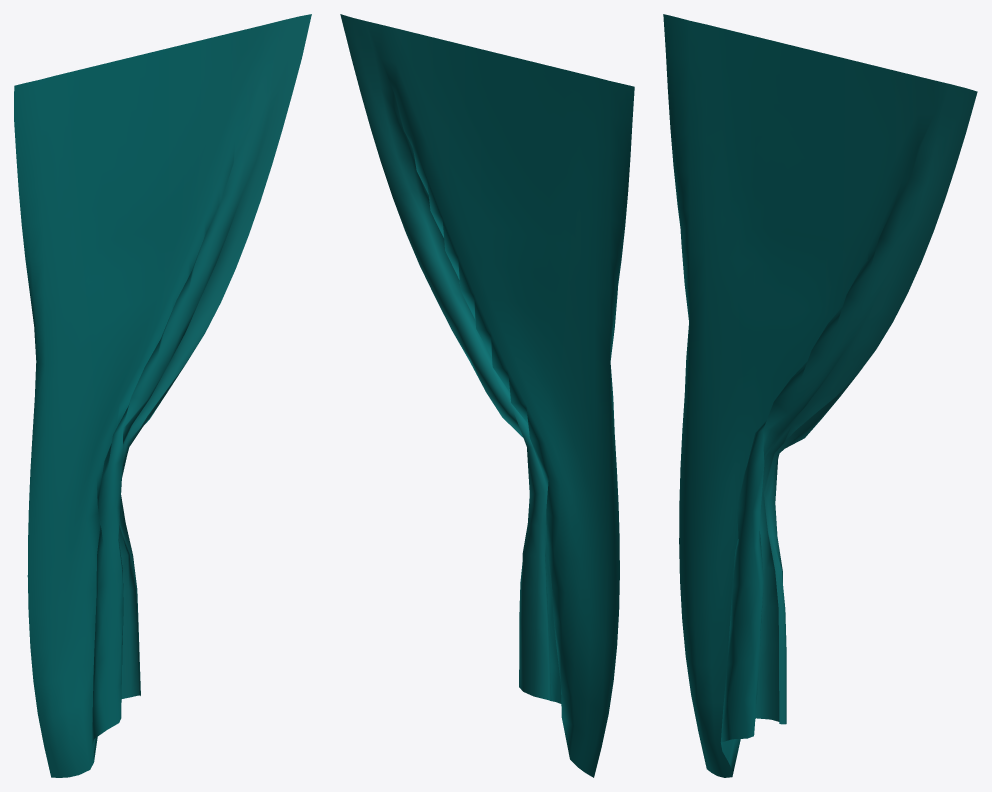
The model's file is fc447461-efce-41c1-be32-888a168b1c1a.glb.
3 renders of one model, left to right at view 1: azimuth 30°, elevation 25°; view 2: azimuth 150°, elevation 25°; view 3: azimuth 330°, elevation 25°, orthographic. The views are drawn at different scales.
Parts seen in each view (by area): view 1: CurtainLeftTeal; view 2: CurtainLeftTeal; view 3: CurtainLeftTeal.
Part boxes in pixels (box(x1,y1,x2,y2)): CurtainLeftTeal: box(14, 14, 311, 777); CurtainLeftTeal: box(340, 14, 634, 777); CurtainLeftTeal: box(663, 14, 977, 777).
Size of the model in its own units: 0.874 by 1.98 by 0.0844.
Materials: 1 (1 with a texture image).
